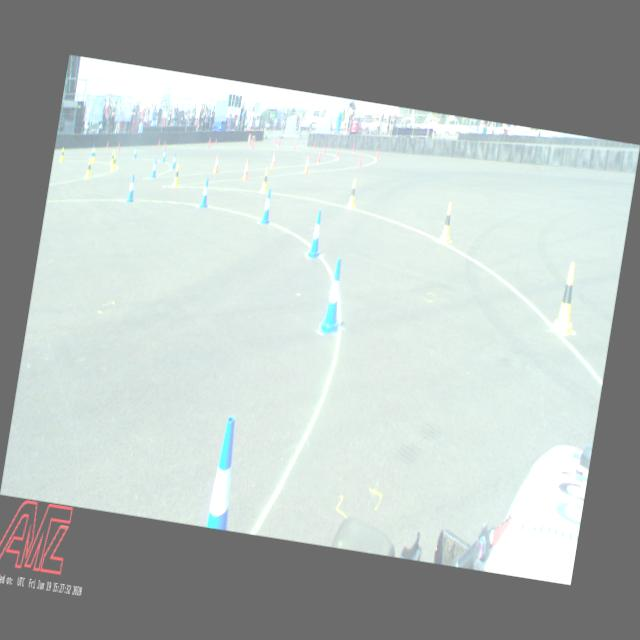blue_cone: (207, 414, 244, 530), (320, 257, 350, 335), (308, 210, 326, 259), (260, 188, 276, 226), (198, 178, 212, 210), (126, 174, 138, 203), (151, 160, 158, 178), (172, 153, 178, 169), (162, 149, 167, 162), (134, 146, 138, 158), (91, 146, 95, 158)
orange_cone: (242, 159, 250, 179), (212, 155, 220, 173), (304, 156, 312, 173), (270, 152, 277, 168)
yellow_cone: (551, 261, 583, 336), (440, 202, 457, 243), (347, 178, 360, 208), (260, 168, 270, 192), (172, 164, 182, 187), (85, 158, 93, 178), (110, 154, 118, 172), (59, 148, 65, 162), (110, 150, 115, 166), (92, 149, 97, 162)
